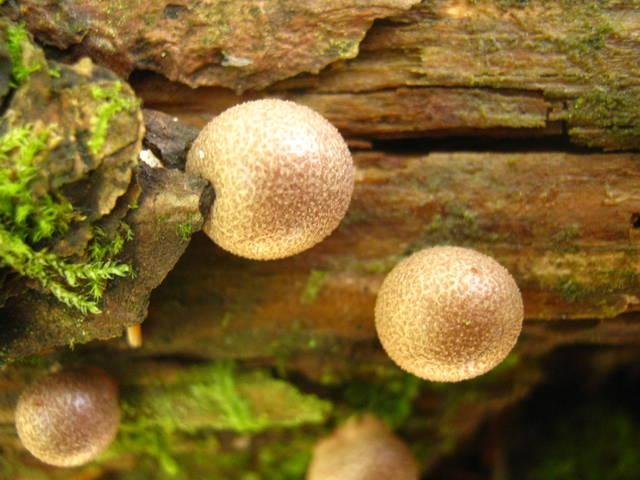poisonous_mushroom: (183, 96, 356, 261), (372, 243, 524, 383), (13, 365, 121, 468), (303, 411, 422, 479)
